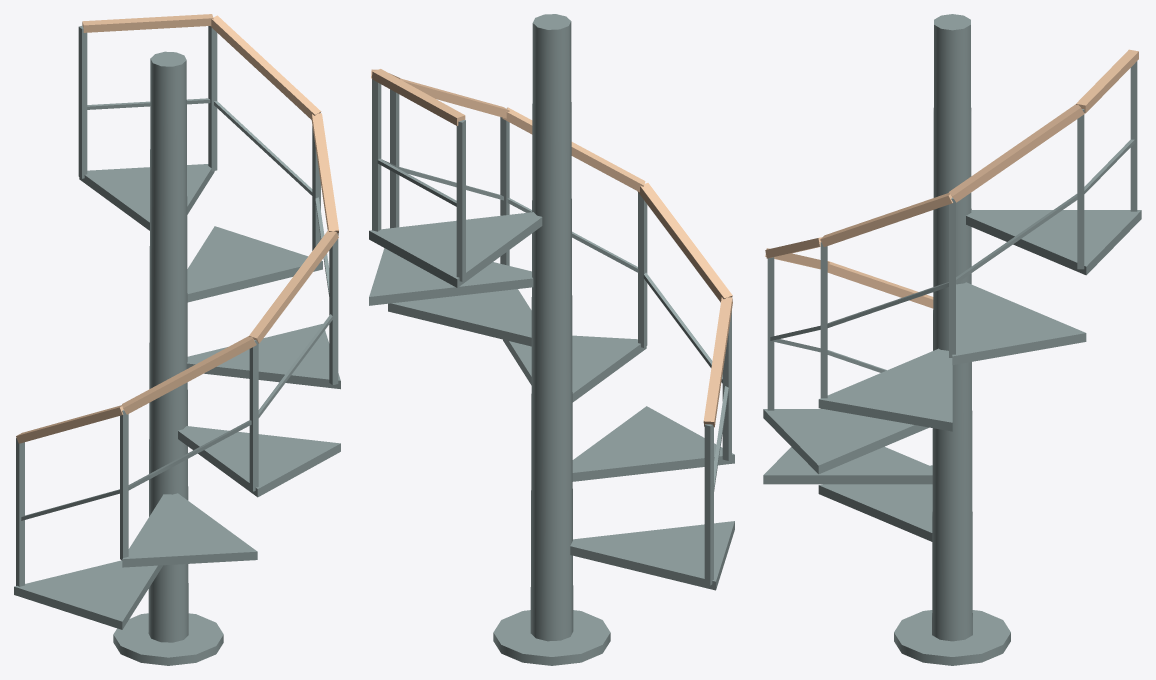
Rendered from stairSpiralIron.glb.
3 renders of one model, left to right at view 1: azimuth 30°, elevation 25°; view 2: azimuth 150°, elevation 25°; view 3: azimuth 270°, elevation 25°, orthographic. The views are drawn at different scales.
Parts seen in each view (by area): view 1: stairSpiralIron; view 2: stairSpiralIron; view 3: stairSpiralIron.
Boxes of the visible parts, <box> form: stairSpiralIron: <box>14,14,340,665</box>; stairSpiralIron: <box>369,14,734,665</box>; stairSpiralIron: <box>763,14,1141,665</box>.
Size of the model in its own units: 0.97 by 1.75 by 0.97.
